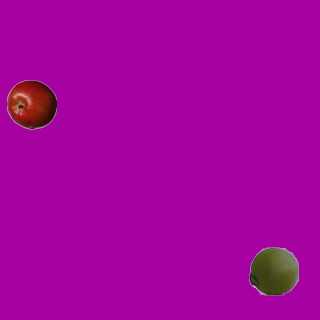Apple Braeburn: (6, 79, 56, 129)
Grape White 4: (248, 245, 298, 295)
